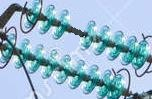gap: (51, 8, 97, 51)
